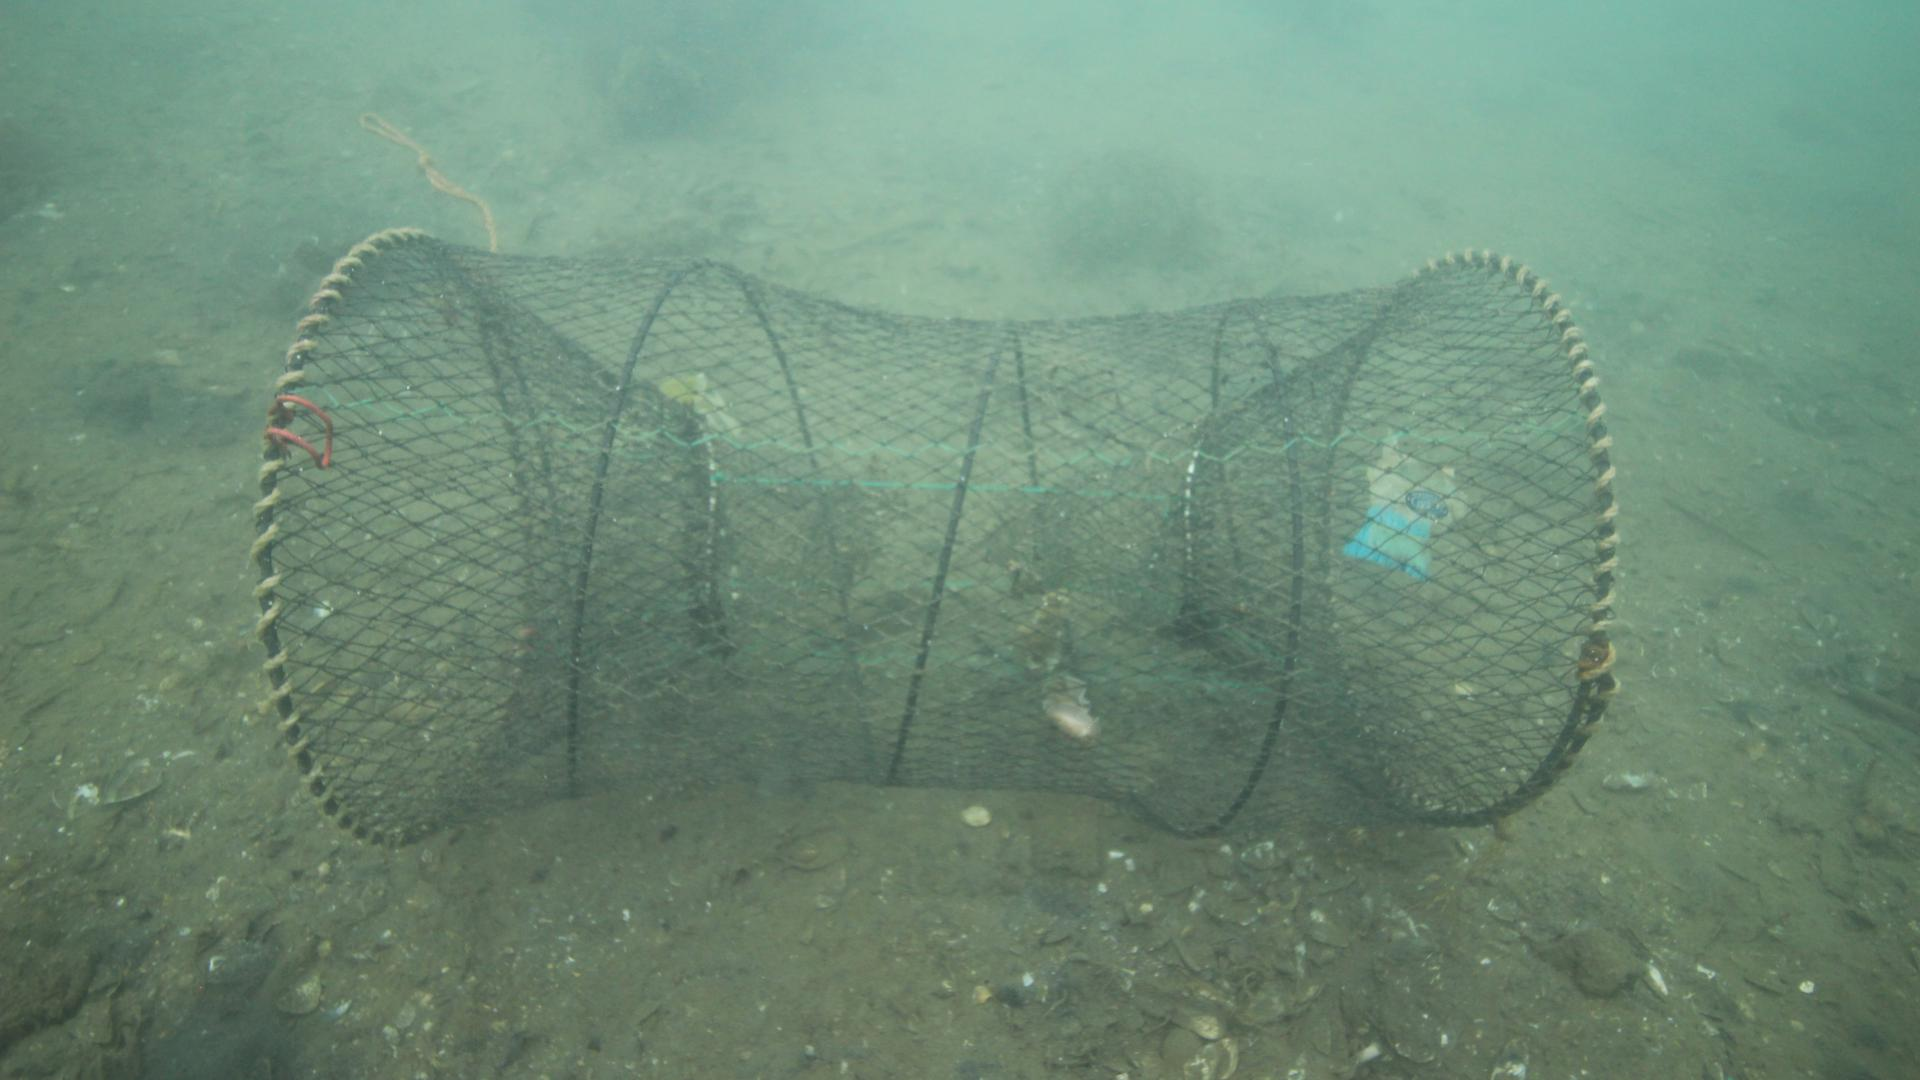bundle of ropes: (352, 105, 501, 252)
spring fish trap: (251, 225, 1625, 858)
